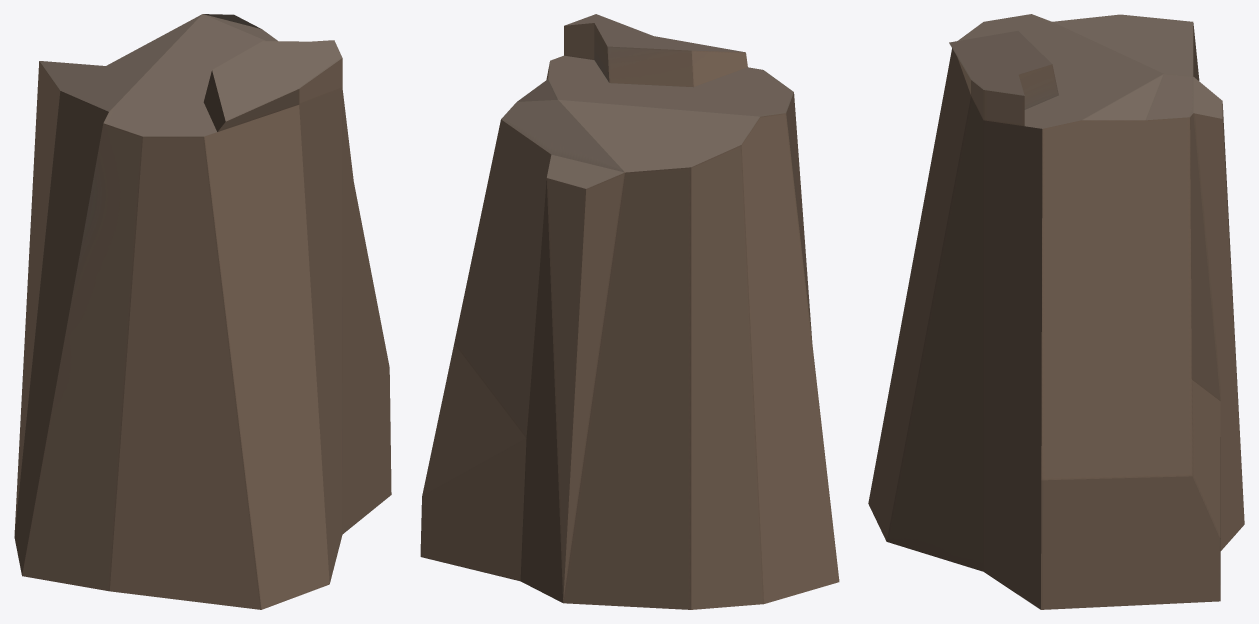
Rendered from rock03.fbx.
3 views of the same model, side by side, from view 1: azimuth 30°, elevation 25°; view 2: azimuth 150°, elevation 25°; view 3: azimuth 270°, elevation 25° (orthographic). The views are drawn at different scales.
Parts seen in each view (by area): view 1: Cube; view 2: Cube; view 3: Cube.
Part boxes in pixels (left/top/right/bottom): Cube: left=14, top=14, right=391, bottom=609; Cube: left=420, top=14, right=839, bottom=609; Cube: left=868, top=14, right=1244, bottom=609.
Bounding box in the file's own units: 6.31 × 8.1 × 5.64.
